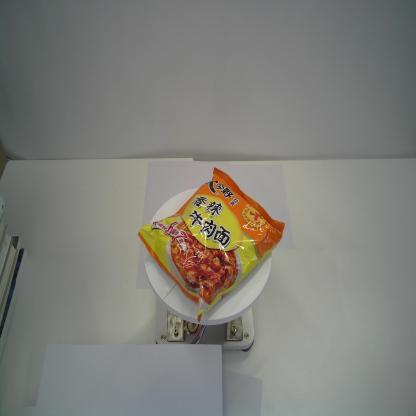Instant Noodles: (137, 166, 284, 324)
